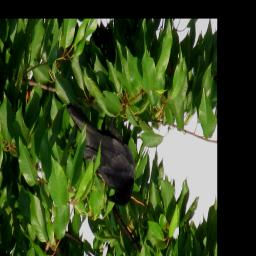Crow: (65, 103, 136, 207)
